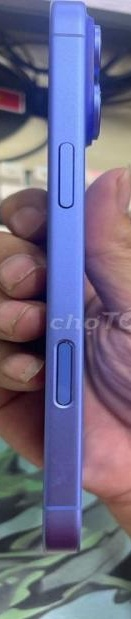scratch: (13, 0, 118, 557), (37, 450, 91, 499)
